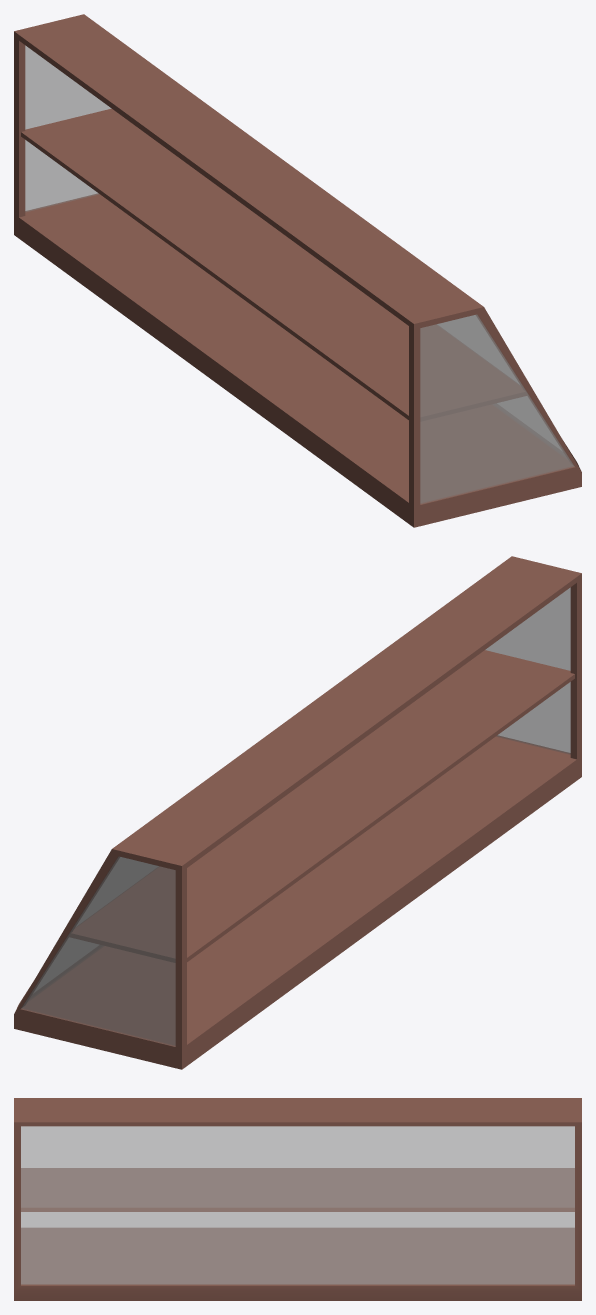
The model's file is DisplayCabinet.fbx.
3 renders of one model, top to bottom at view 1: azimuth 30°, elevation 25°; view 2: azimuth 150°, elevation 25°; view 3: azimuth 270°, elevation 25°, orthographic. The views are drawn at different scales.
Visible parts, largest first — view 1: DisplayCabinet, Glass5; view 2: DisplayCabinet, Glass5; view 3: Glass5, DisplayCabinet.
Boxes of the visible parts, x1,y1,x2,y2 form: DisplayCabinet: [14, 14, 581, 527]; Glass5: [25, 45, 574, 503]; DisplayCabinet: [14, 556, 581, 1069]; Glass5: [21, 587, 570, 1046]; Glass5: [21, 1126, 574, 1284]; DisplayCabinet: [14, 1098, 581, 1300].
Bounding box in the file's own units: 49.09 × 56.89 × 202.
